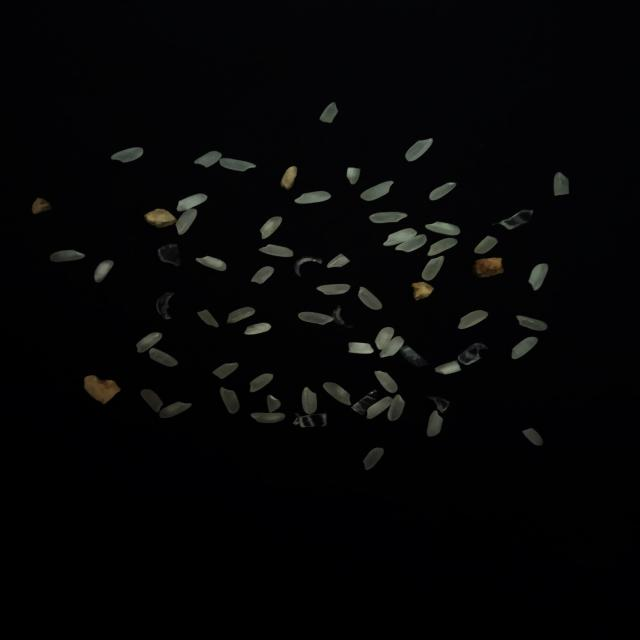Broken: (194, 151, 222, 168), (474, 235, 499, 254), (212, 362, 238, 379), (197, 309, 219, 328), (251, 266, 274, 284), (319, 102, 338, 123), (554, 172, 570, 196), (522, 428, 543, 446), (435, 360, 461, 374), (326, 254, 351, 268), (348, 342, 374, 354), (266, 395, 281, 413), (346, 168, 361, 185)
Full: (323, 382, 352, 406), (360, 181, 394, 201), (405, 138, 433, 161), (383, 228, 418, 246), (366, 396, 393, 419), (175, 209, 198, 235), (512, 336, 538, 359), (458, 310, 489, 329), (176, 194, 208, 212), (395, 234, 427, 252), (358, 286, 382, 310), (226, 306, 256, 325), (219, 387, 240, 414), (425, 220, 460, 236), (421, 256, 444, 280), (149, 348, 178, 367), (379, 336, 404, 358), (136, 332, 162, 353), (110, 147, 144, 163), (195, 255, 227, 272), (219, 158, 257, 172), (529, 263, 548, 291), (259, 216, 282, 239), (140, 389, 163, 412), (362, 447, 384, 471), (159, 402, 192, 418), (374, 371, 398, 393), (427, 238, 458, 255), (516, 315, 548, 331), (429, 182, 457, 200), (298, 311, 334, 325), (387, 394, 405, 422), (293, 191, 331, 204), (426, 410, 444, 437), (301, 386, 318, 414), (258, 244, 294, 257), (94, 260, 114, 283), (374, 327, 394, 350), (250, 373, 274, 392), (50, 250, 86, 262), (369, 212, 408, 223), (316, 284, 351, 295), (250, 412, 285, 423), (244, 323, 271, 335)
